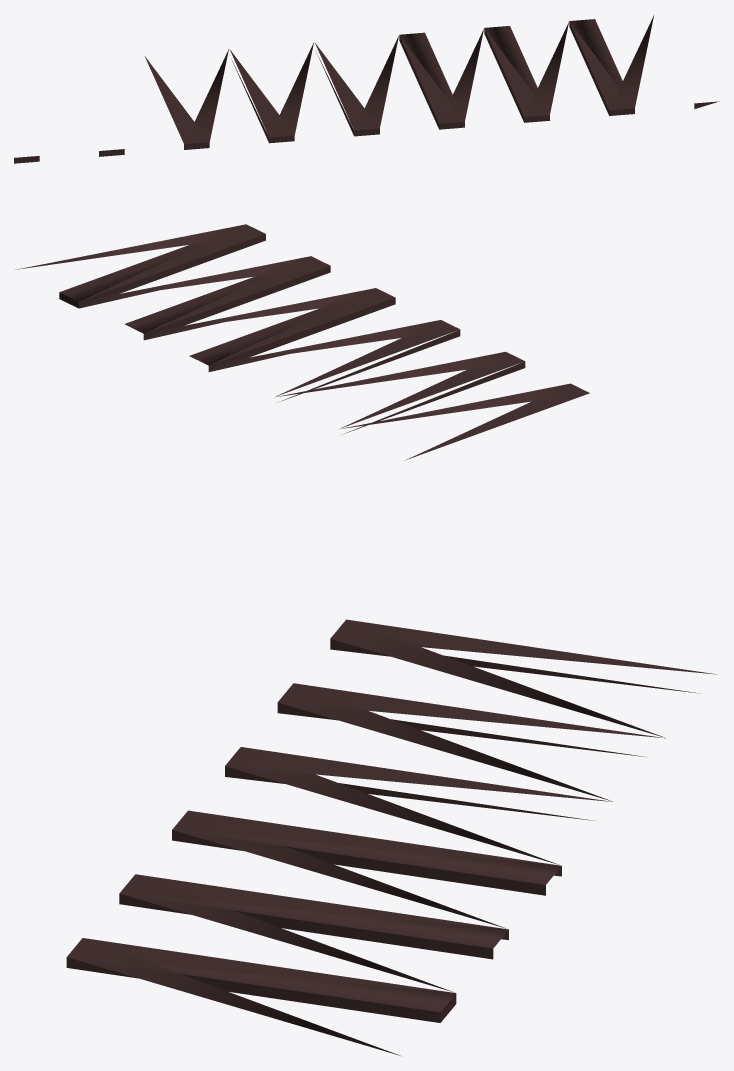
The picture shows the model from 3 angles, top to bottom: view 1: azimuth 30°, elevation 25°; view 2: azimuth 150°, elevation 25°; view 3: azimuth 270°, elevation 25°; orthographic projection. The views are drawn at different scales.
Bounding box in the file's own units: 7.2 × 0.064 × 3.8.
